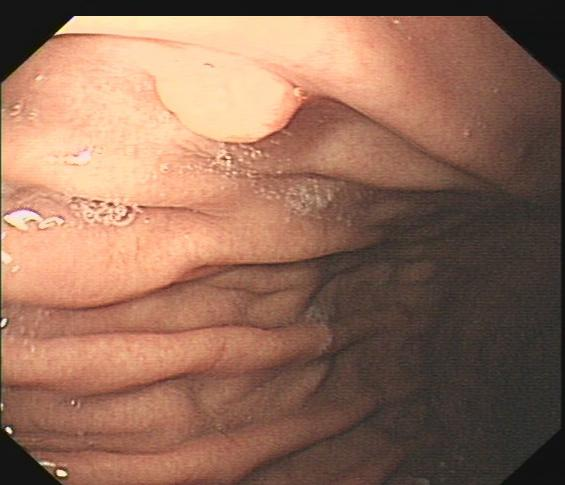Polyp: (121, 19, 318, 173)
